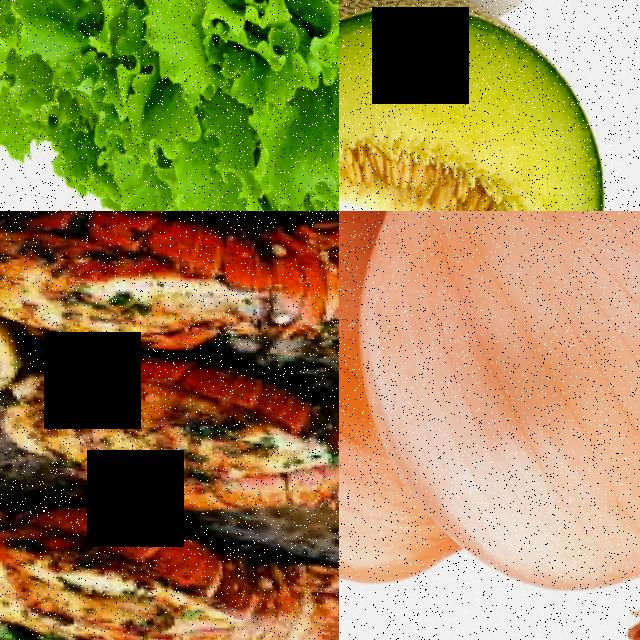lettuce: (0, 0, 339, 211)
lobster tails: (0, 381, 339, 542), (0, 211, 339, 365), (0, 497, 339, 640)
melon: (339, 0, 610, 211)
onion: (431, 211, 640, 598)
